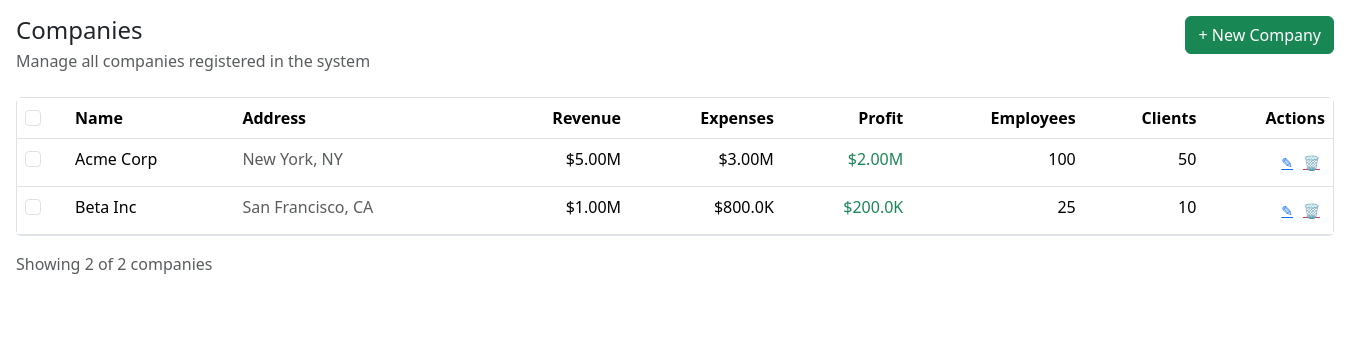
Test: CompanyListPage › allows selecting a company via checkbox
Click the checkbox named "Select Acme Corp": click(33, 159) [25,151,41,167]
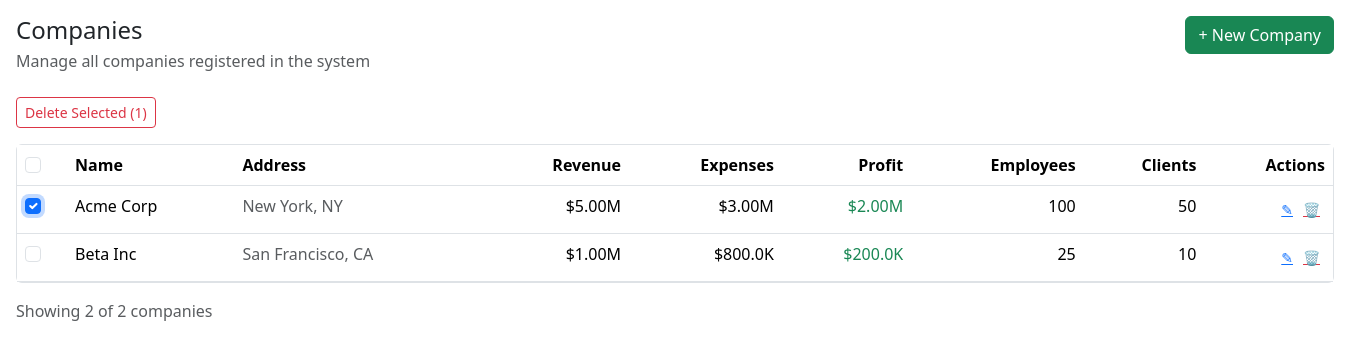
Expected: the button with test id "bulk-delete-btn" is shown, [16,97,156,128]
